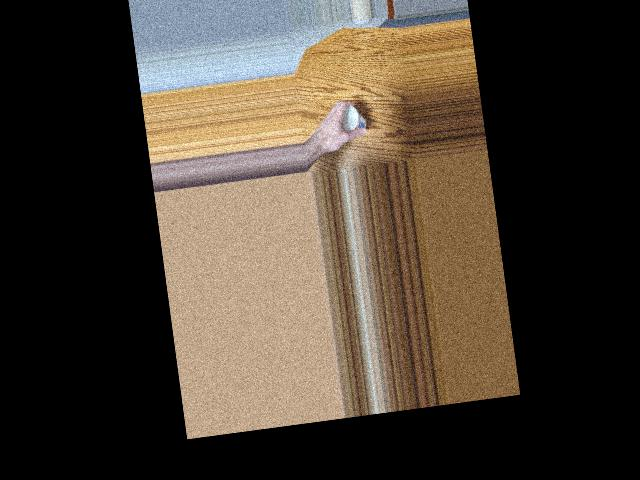cotage: (338, 104, 367, 140)
